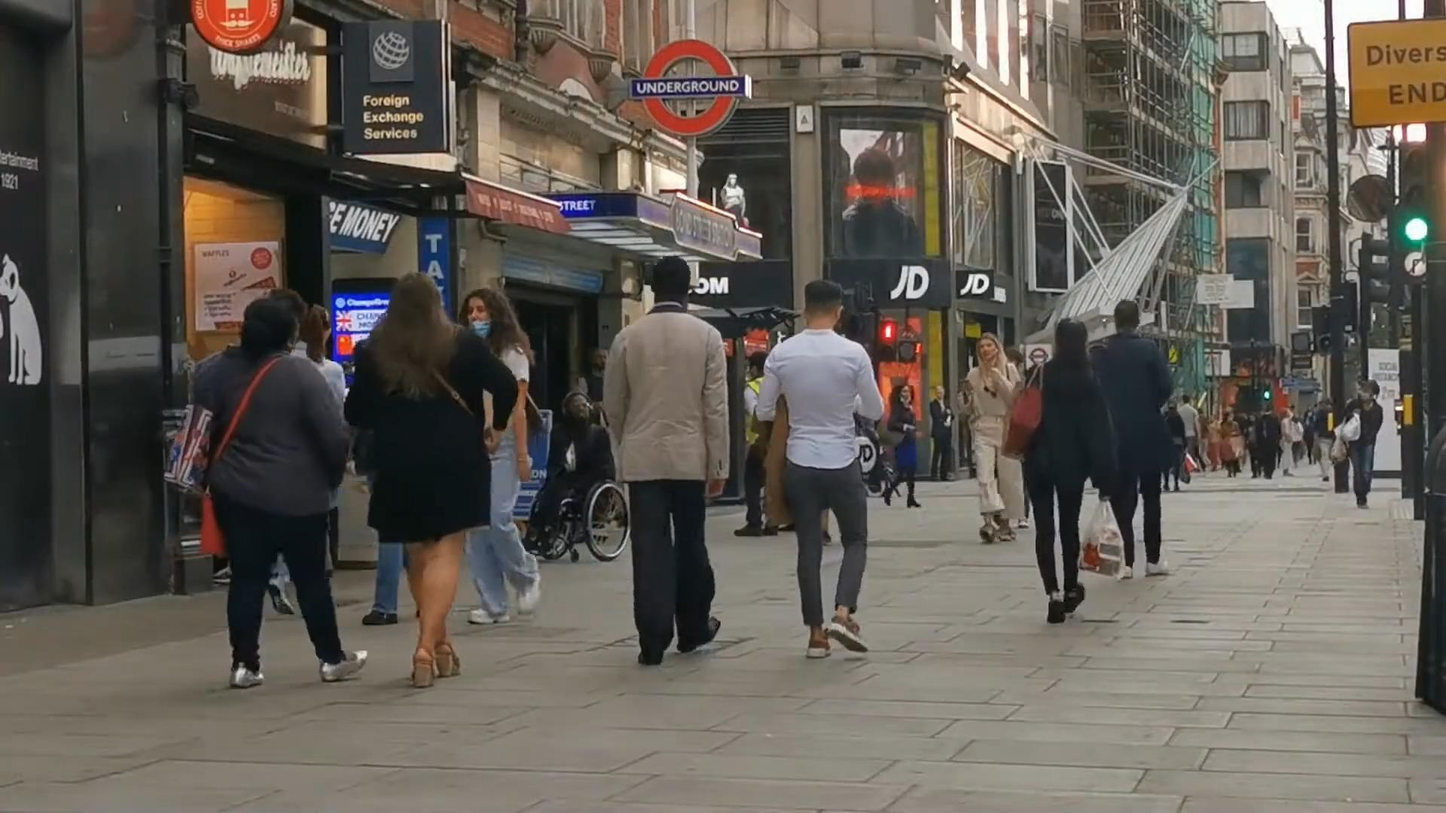no-helmet: (383, 271, 451, 327), (458, 288, 521, 343), (240, 297, 300, 349), (804, 280, 843, 328), (301, 304, 332, 364), (652, 255, 691, 301), (1055, 317, 1088, 355), (975, 332, 1007, 366), (1114, 299, 1139, 333), (890, 384, 911, 406)
